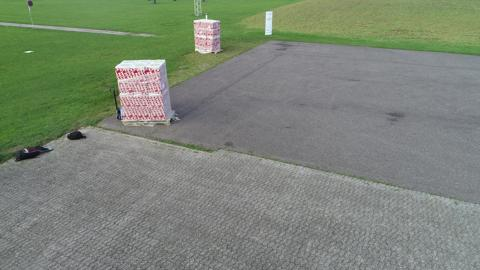RockwoolPallet: (116, 61, 174, 118)
